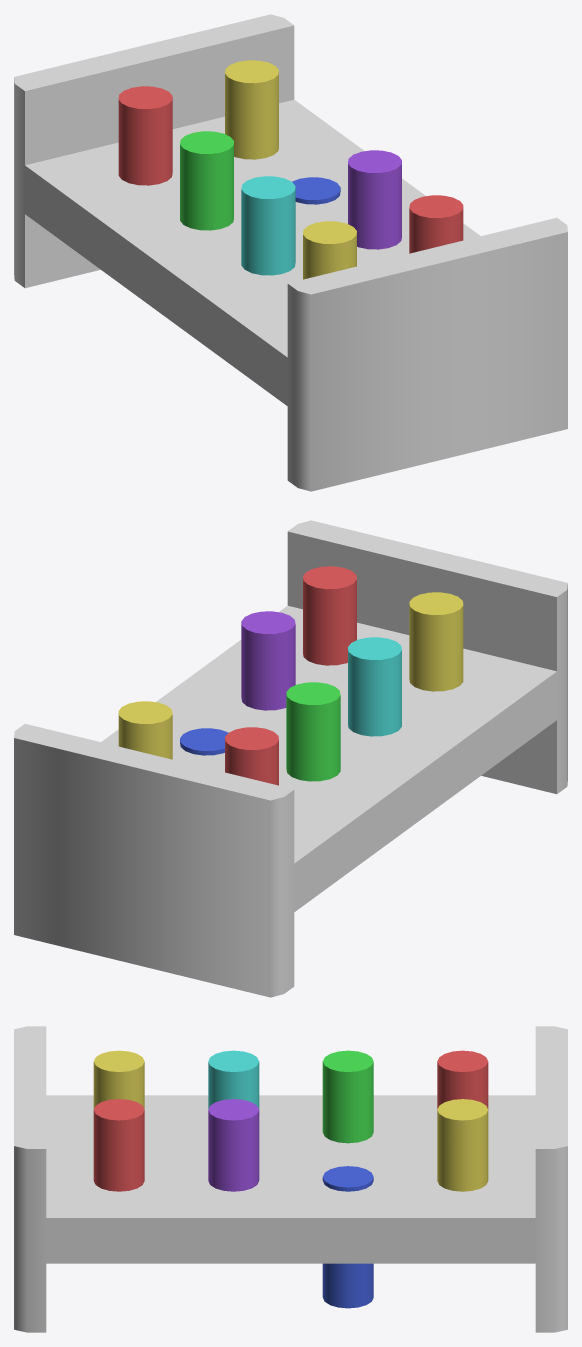
File: Hit_Toys.fbx
3 views of the same model, one above another, from view 1: azimuth 30°, elevation 25°; view 2: azimuth 150°, elevation 25°; view 3: azimuth 270°, elevation 25° (orthographic). The views are drawn at different scales.
Parts seen in each view (by area): view 1: Cube; view 2: Cube; view 3: Cube.
Boxes of the visible parts, box(x1,y1,x2,y2) form: Cube: box(14, 14, 567, 491); Cube: box(14, 520, 567, 997); Cube: box(14, 1026, 567, 1332).
Bounding box in the file's own units: 50.63 × 36.2 × 96.74.
